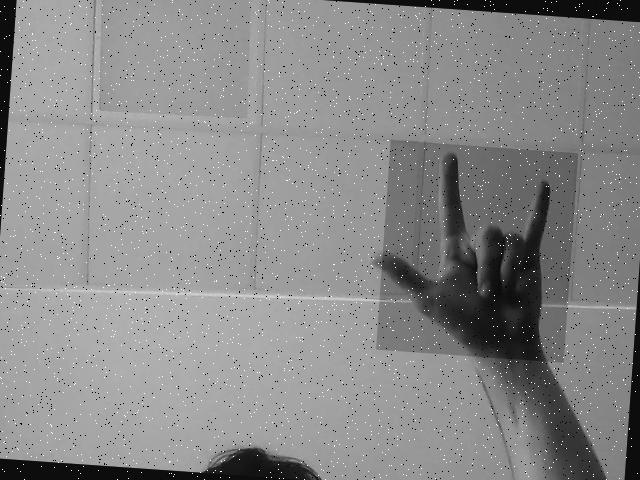I_Love_You: (376, 140, 578, 362)
